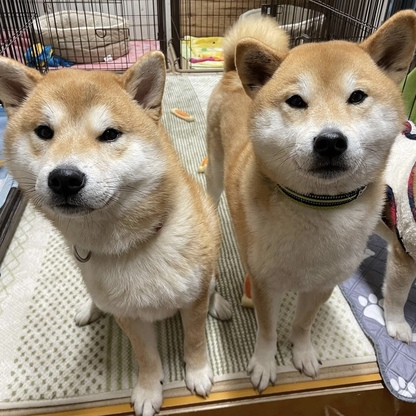shiba: (1, 39, 226, 416), (201, 3, 416, 396)
